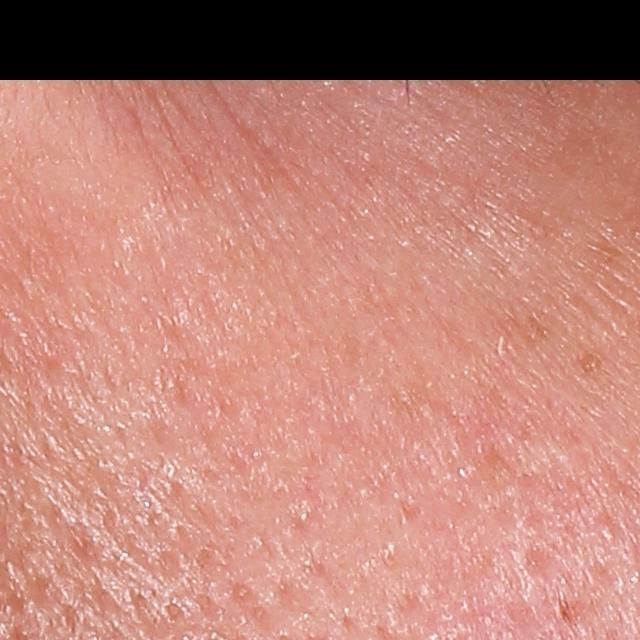melasma: (574, 346, 615, 377)
